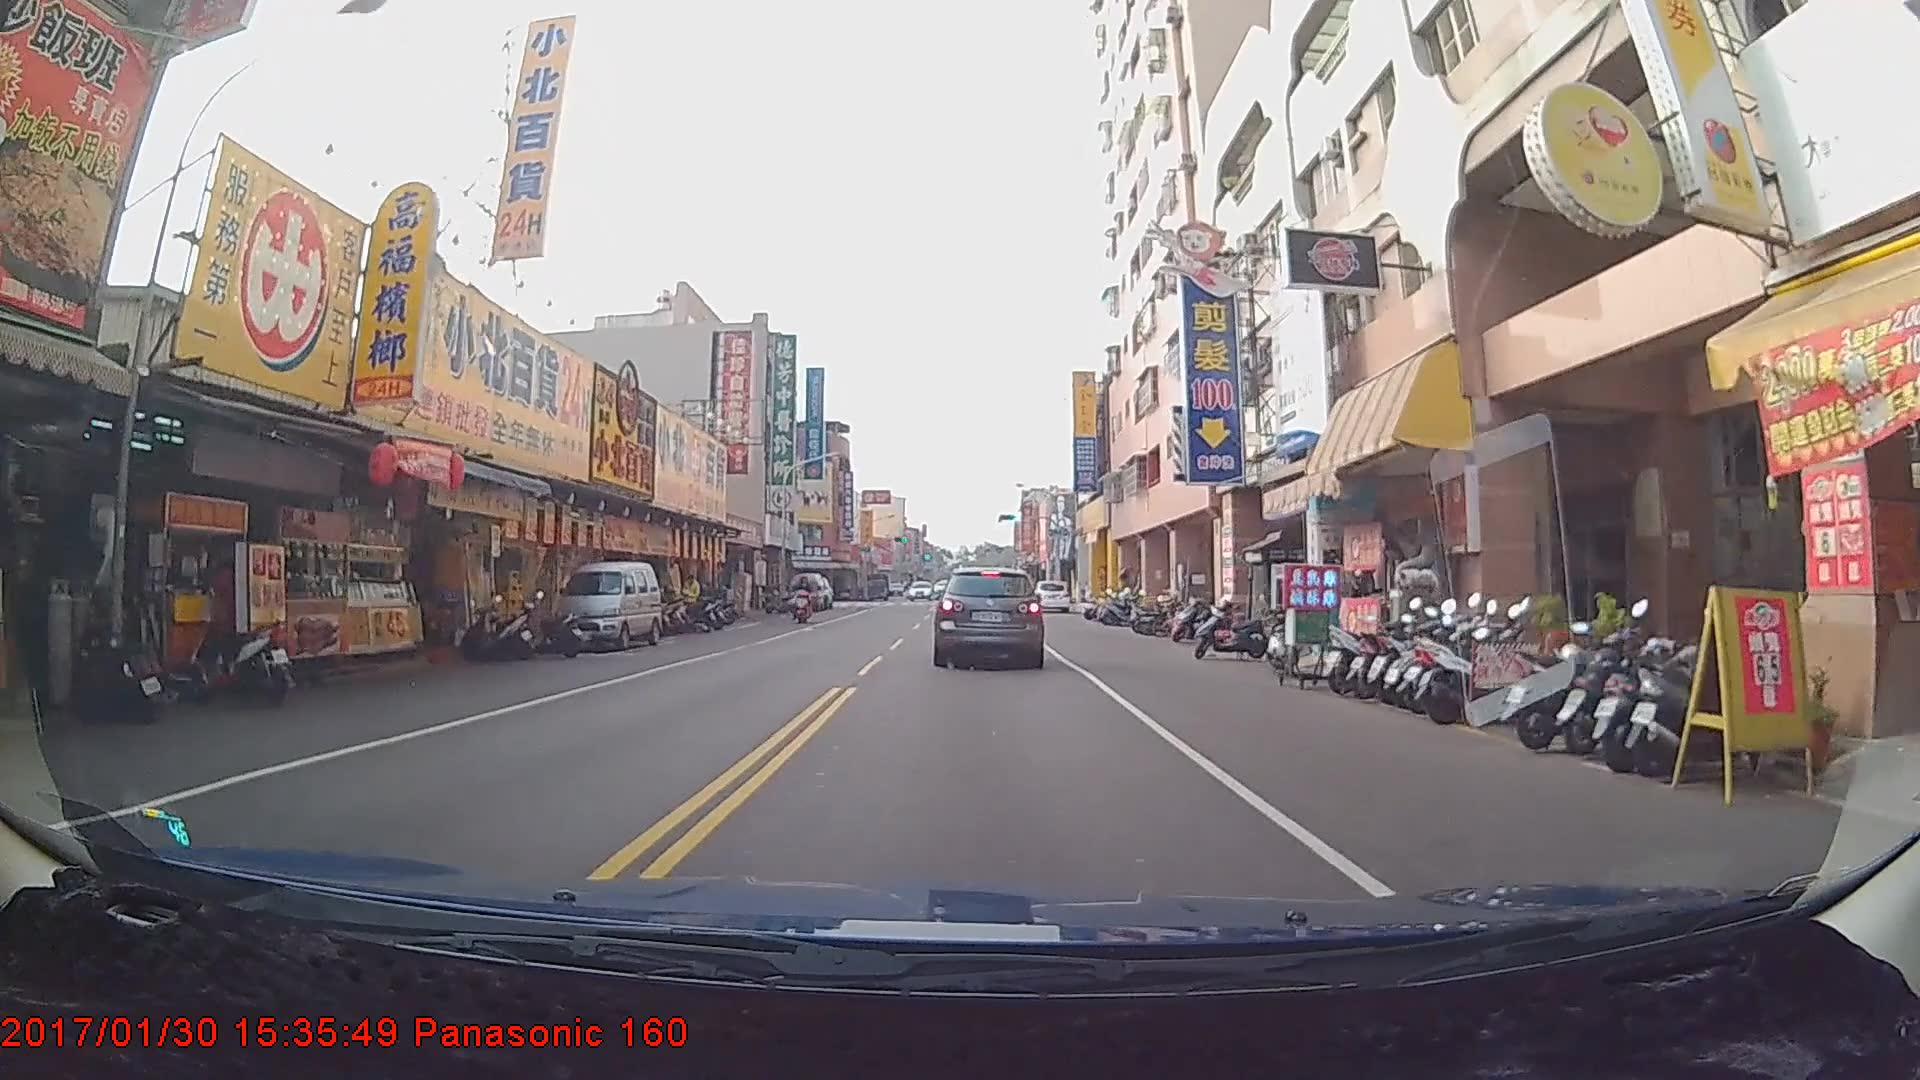pedestrian: (675, 573, 702, 627)
rider: (793, 574, 818, 626)
vehicle: (933, 565, 1045, 669), (553, 560, 662, 648), (789, 571, 825, 611), (1032, 580, 1070, 614)
